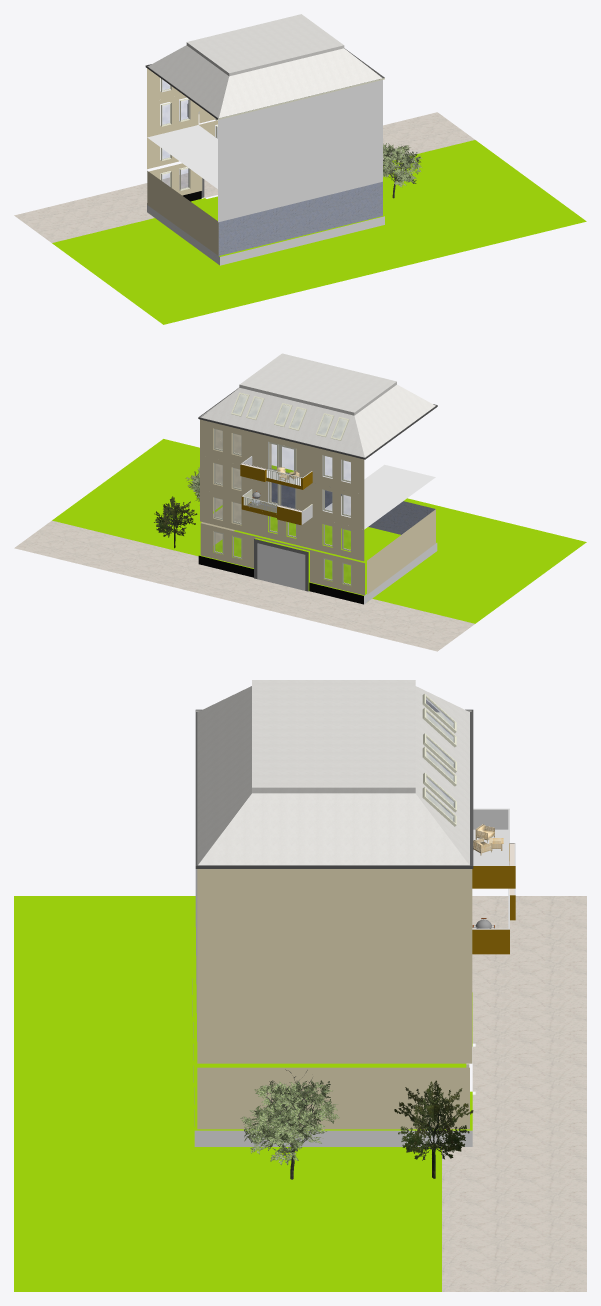
File: Testche.glb
3 views of the same model, one above another, from view 1: azimuth 30°, elevation 25°; view 2: azimuth 150°, elevation 25°; view 3: azimuth 270°, elevation 25° (orthographic). The views are drawn at different scales.
Visible parts, largest first — view 1: Geom3D_270, Geom3D_259, Geom3D_252, Geom3D_269, Geom3D_208, Geom3D_207, Geom3D_245, Geom3D_237, Geom3D_254; view 2: Geom3D_270, Geom3D_269, Geom3D_252, Geom3D_207, Geom3D_259, Geom3D_254, Geom3D_237, Geom3D_245, Geom3D_208, Geom3D_255, Geom3D_268, Geom3D_256 (+7 smaller); view 3: Geom3D_270, Geom3D_269, Geom3D_252, Geom3D_254, Geom3D_245, Geom3D_237, Geom3D_EG, Geom3D_259, Geom3D_256, Geom3D_2, Geom3D_1, Geom3D_258 (+2 smaller).
Boxes of the visible parts, bbox=[...] form: Geom3D_270: bbox=[52, 140, 586, 324]; Geom3D_259: bbox=[147, 80, 384, 265]; Geom3D_252: bbox=[148, 14, 382, 118]; Geom3D_269: bbox=[14, 112, 474, 242]; Geom3D_208: bbox=[218, 181, 382, 255]; Geom3D_207: bbox=[147, 163, 218, 255]; Geom3D_245: bbox=[147, 94, 215, 137]; Geom3D_237: bbox=[147, 120, 217, 169]; Geom3D_254: bbox=[147, 68, 182, 102]; Geom3D_270: bbox=[52, 439, 586, 623]; Geom3D_269: bbox=[14, 520, 474, 651]; Geom3D_252: bbox=[201, 353, 435, 457]; Geom3D_207: bbox=[200, 509, 435, 595]; Geom3D_259: bbox=[251, 442, 437, 604]; Geom3D_254: bbox=[200, 419, 364, 494]; Geom3D_237: bbox=[200, 443, 364, 561]; Geom3D_245: bbox=[200, 433, 364, 529]; Geom3D_208: bbox=[271, 482, 435, 534]; Geom3D_255: bbox=[233, 394, 346, 510]; Geom3D_268: bbox=[198, 555, 363, 604]; Geom3D_256: bbox=[198, 387, 437, 459]; Geom3D_270: bbox=[14, 896, 472, 1291]; Geom3D_269: bbox=[442, 896, 586, 1291]; Geom3D_252: bbox=[197, 680, 469, 865]; Geom3D_254: bbox=[197, 869, 472, 936]; Geom3D_245: bbox=[197, 936, 472, 1002]; Geom3D_237: bbox=[197, 1002, 472, 1063]; Geom3D_EG: bbox=[197, 1067, 469, 1129]; Geom3D_259: bbox=[192, 869, 472, 1146]; Geom3D_256: bbox=[195, 709, 473, 868]; Geom3D_2: bbox=[398, 1081, 473, 1178]; Geom3D_1: bbox=[394, 1080, 469, 1177]; Geom3D_258: bbox=[472, 808, 515, 929].
Size of the model in its own units: 51.56 by 20.46 by 31.52.
33 materials, 17 textured.
